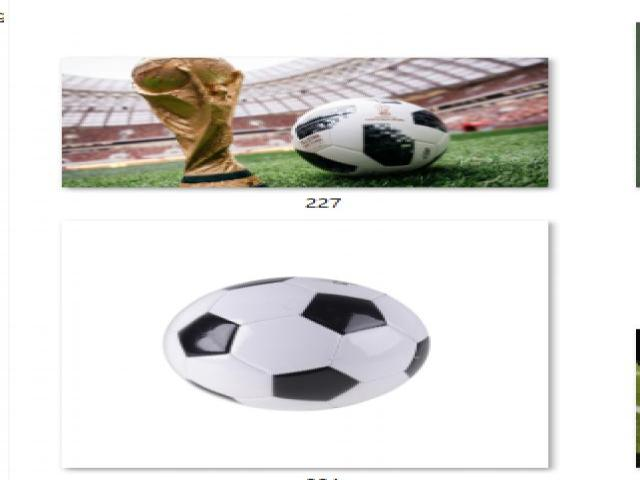round ball: (164, 278, 430, 410), (291, 98, 449, 175)
